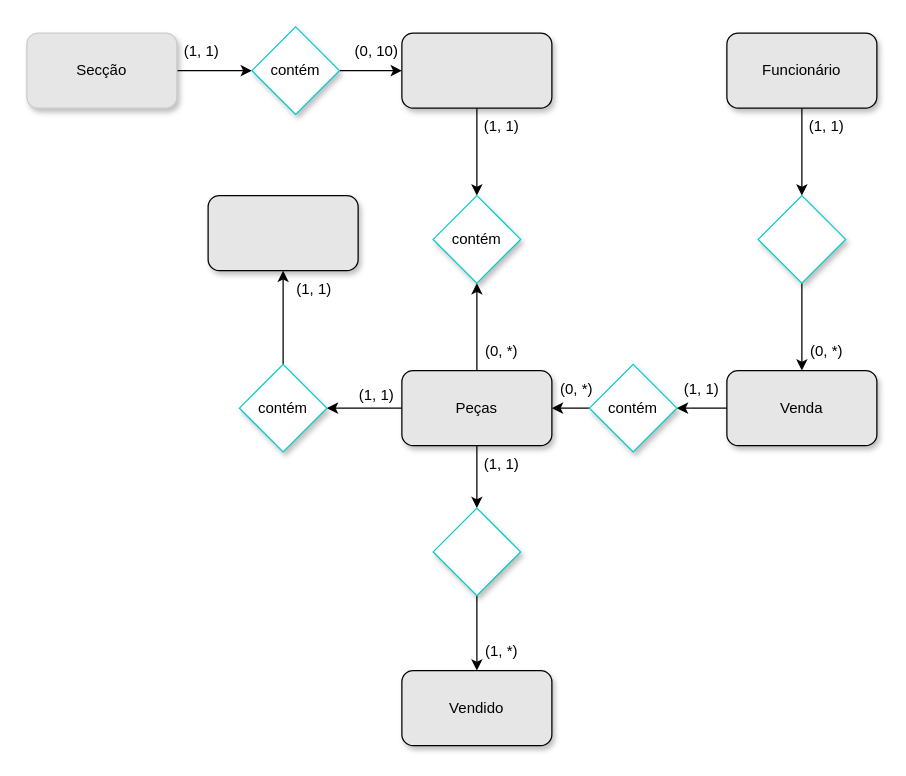
This 906x776 diagram has some shape labels left out. The centre of each missing label's shape, as x and y in pixels:
Artigo: point (284, 234)
Escaparates: point (477, 72)
pode ser: point (477, 553)
realiza: point (802, 240)
